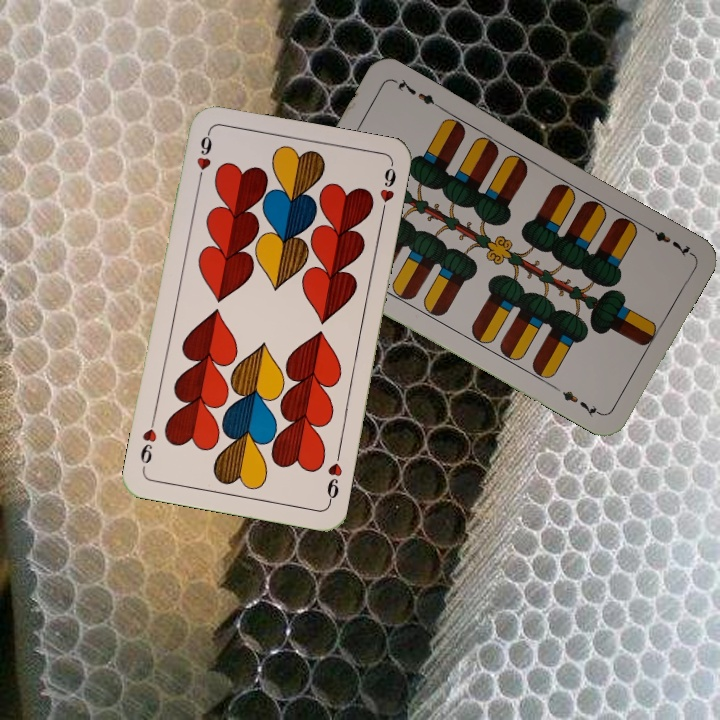E7: (640, 221, 694, 260)
H9: (322, 447, 345, 506), (192, 129, 215, 187)
